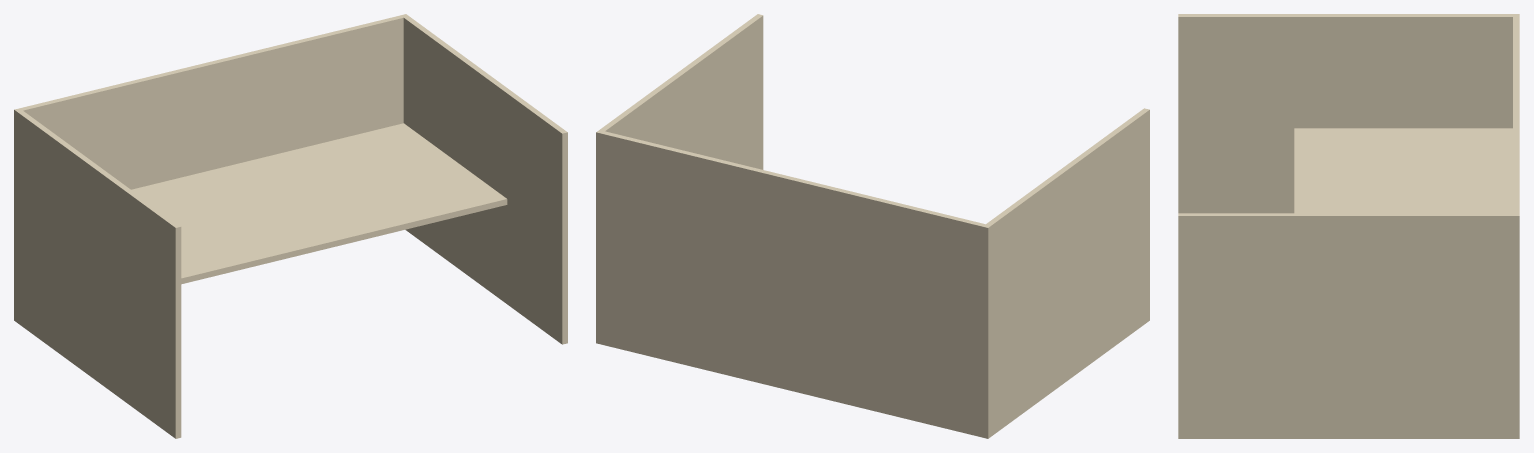
File: Cubicle.fbx
3 renders of one model, left to right at view 1: azimuth 30°, elevation 25°; view 2: azimuth 150°, elevation 25°; view 3: azimuth 270°, elevation 25°, orthographic. The views are drawn at different scales.
Visible parts, largest first — view 1: Cube, Desk; view 2: Cube; view 3: Cube, Desk.
Boxes of the visible parts, x1,y1,x2,y2 form: Cube: (14,14,567,438); Desk: (131,123,507,284); Cube: (596,14,1149,438); Cube: (1178,14,1519,438); Desk: (1294,128,1512,213).
Size of the model in its own units: 7000 by 3600 by 5000.
